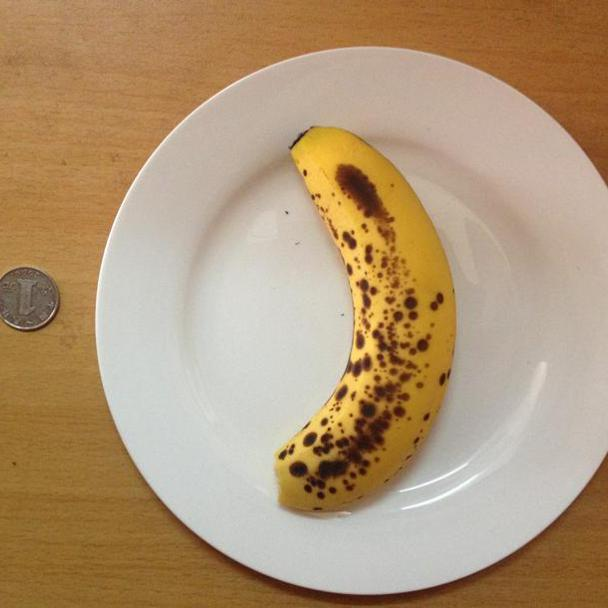banana: (268, 123, 460, 516)
